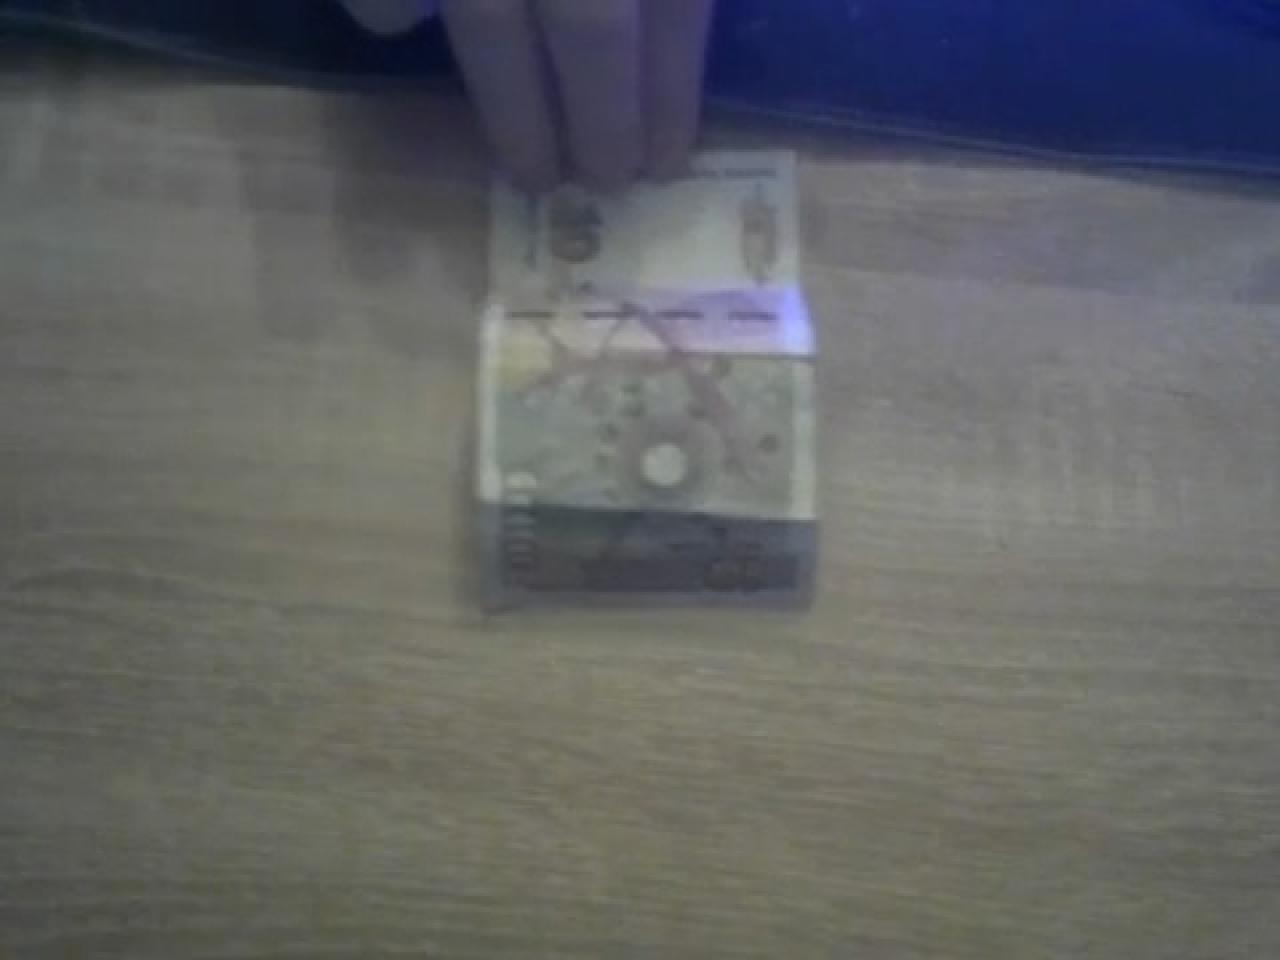10leva: (475, 154, 824, 616)
